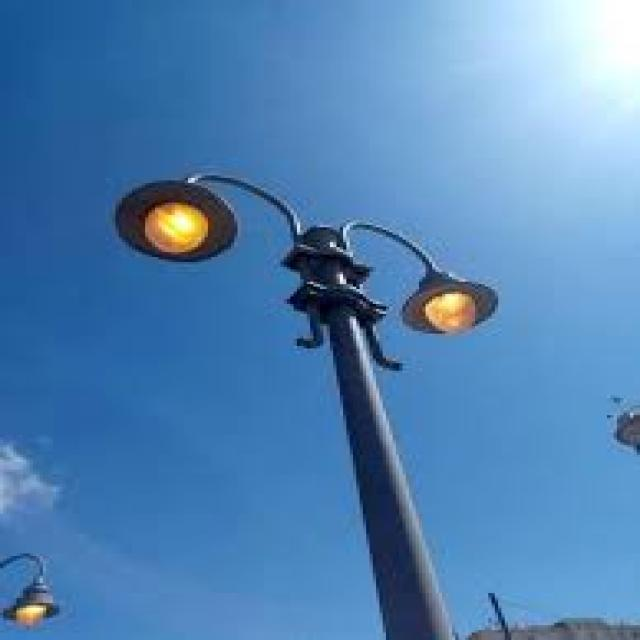Street Light: (112, 170, 498, 640)
